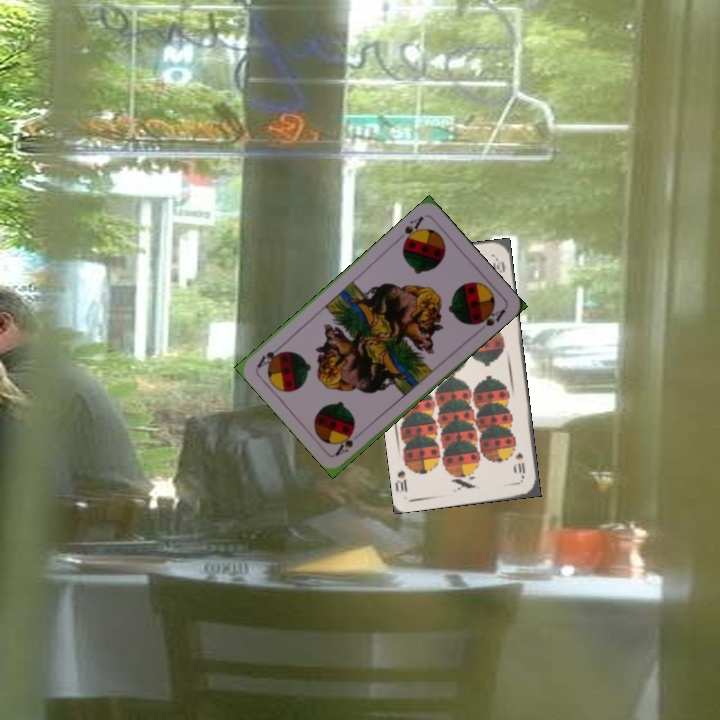S10: (512, 448, 528, 481)
SA: (394, 212, 426, 248), (331, 429, 356, 458)
